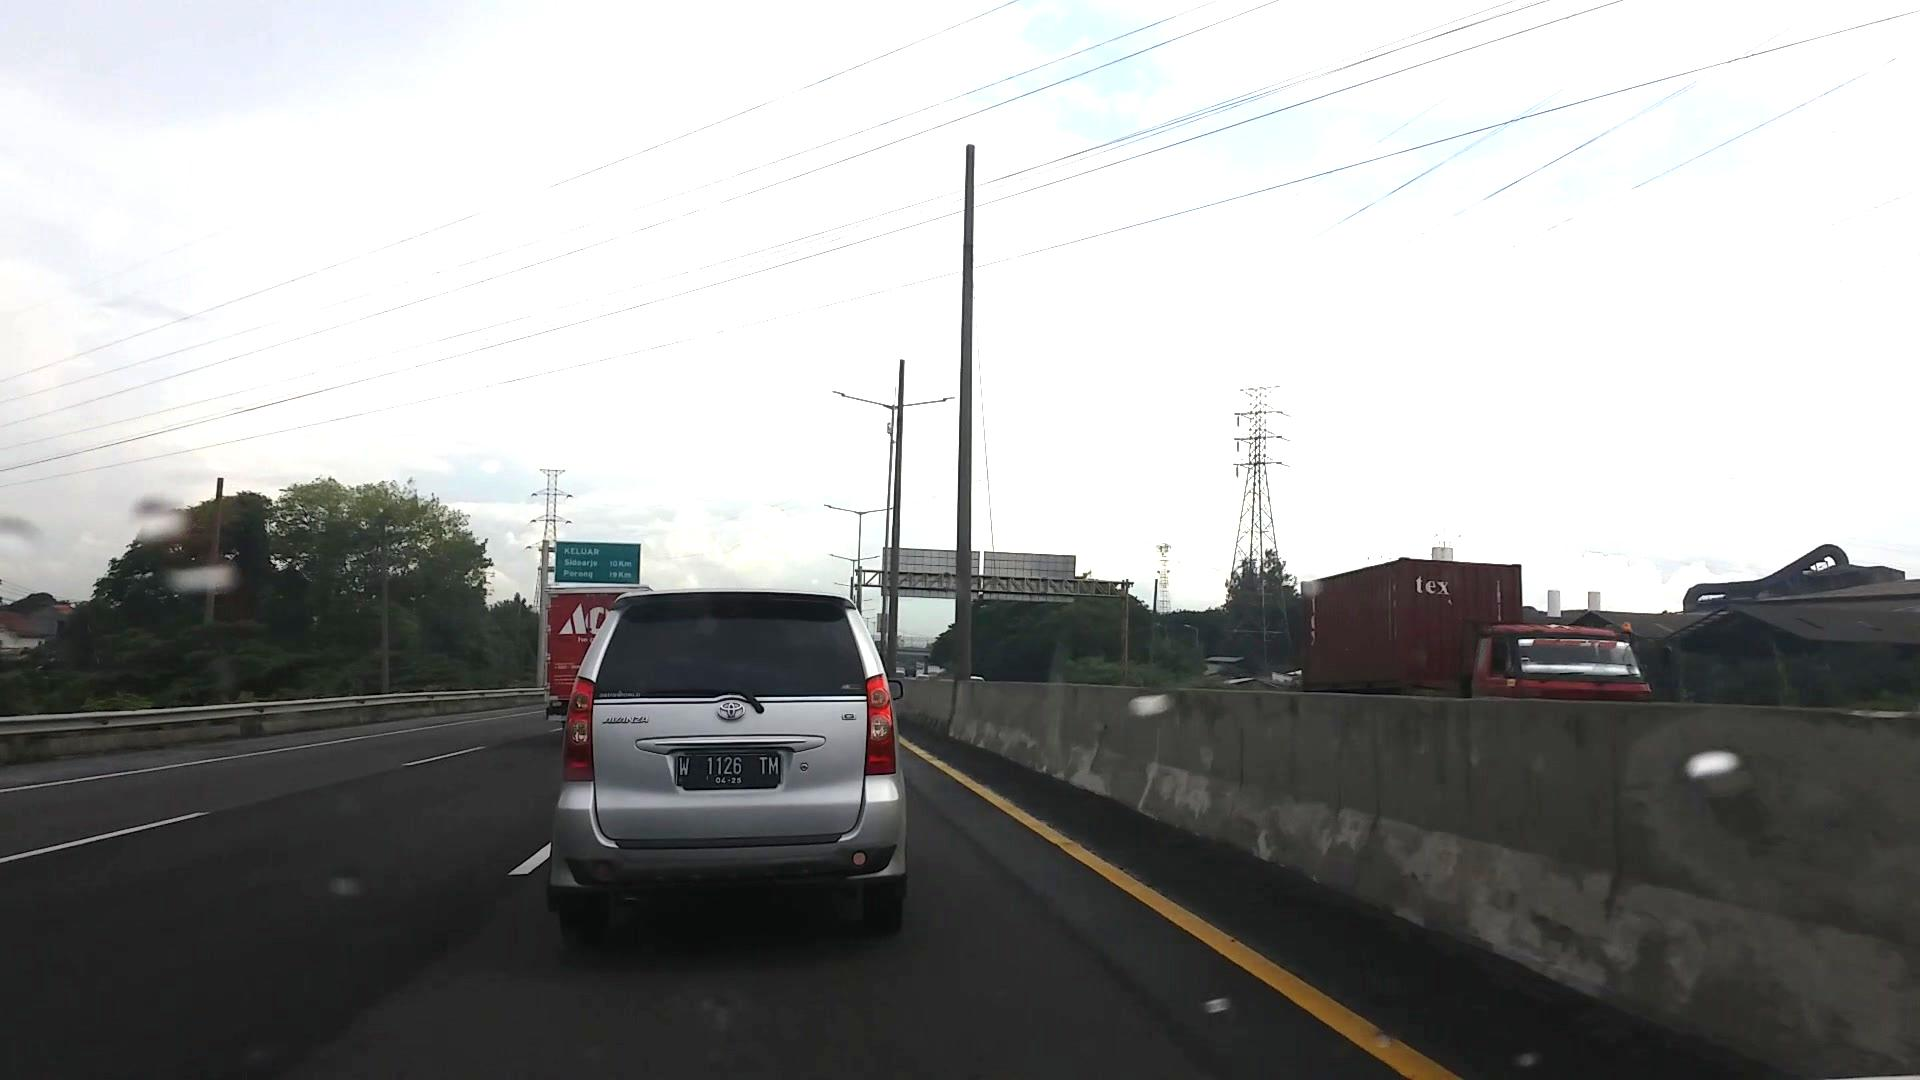plate_positive: (674, 753, 782, 790)
